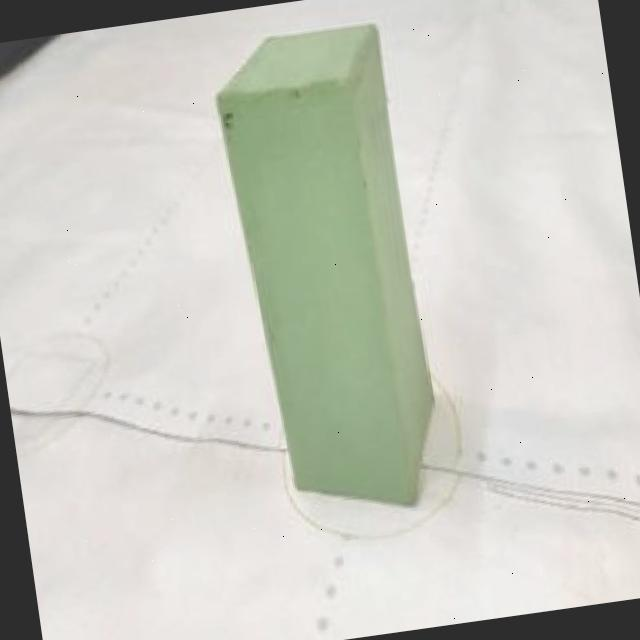greenbox: (207, 14, 456, 531)
